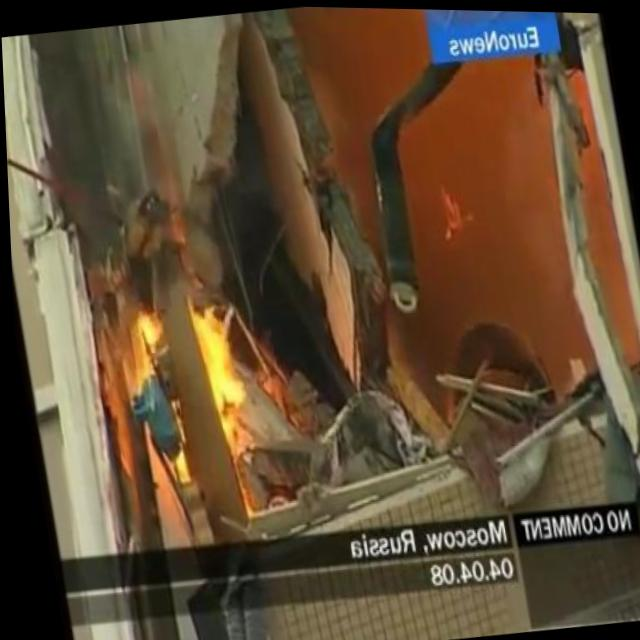fire: (125, 288, 261, 491), (434, 185, 461, 240)
